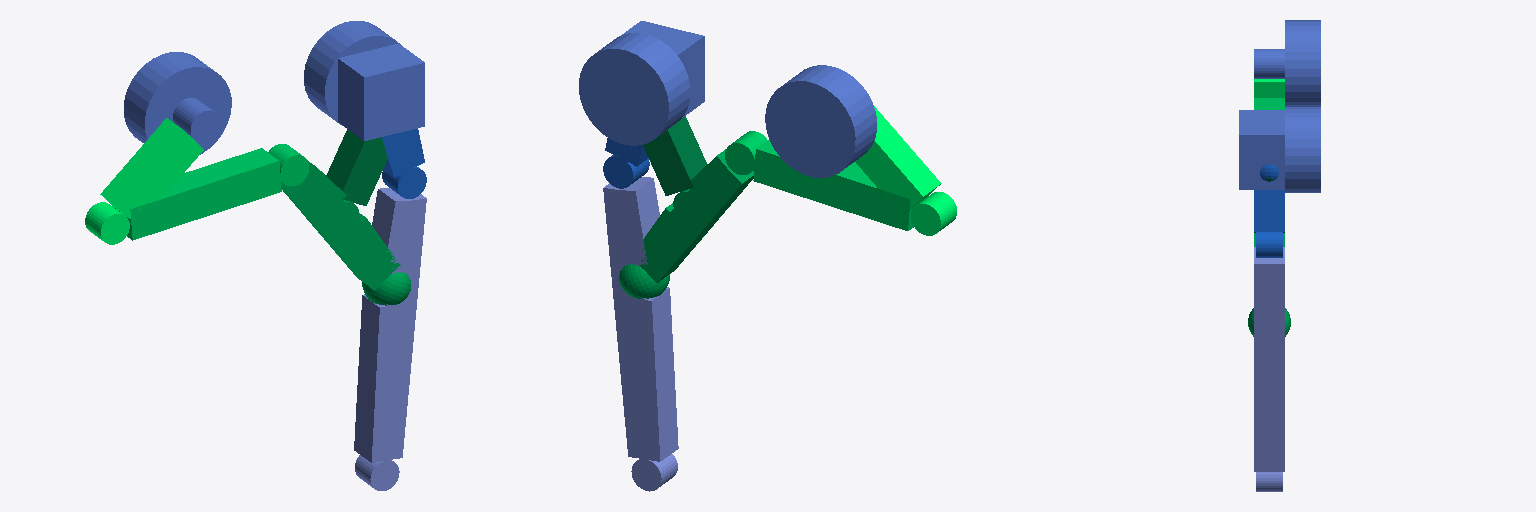
--- Render facts (derived) ---
The picture shows the robot from 3 angles, left to right: view 1: azimuth 30°, elevation 25°; view 2: azimuth 150°, elevation 25°; view 3: azimuth 270°, elevation 25°; orthographic projection.
Model Robot with 21 links and 20 joints (8 revolute, 12 fixed), rooted at G, posed all joints at 0.
Visible links, largest first — view 1: L4, G, L6, Ground_connection_GActuator, L5, L7, Main_ground_GActuator, L8, Ground_connection_GUnit, L3, branch_2_L7Unit, Main_ee_L4Unit (+3 smaller); view 2: L4, Main_ground_GActuator, Ground_connection_GActuator, L5, L6, L7, L8, G, branch_2_L7Unit, Main_ee_L4Unit, branch_1_L6Unit, Main_connection_2_L5Pseudo (+2 smaller); view 3: L4, G, Ground_connection_GActuator, Main_ground_GActuator, L3, Ground_connection_GUnit, Main_knee_L3Unit, L7, Main_ee_L4Unit.
Link boxes in pixels (x1,y1,x2,y2): L4: (354, 188, 426, 462); G: (338, 43, 424, 140); L6: (115, 148, 281, 240); Ground_connection_GActuator: (124, 52, 231, 154); L5: (281, 161, 400, 290); L7: (100, 118, 203, 218); Main_ground_GActuator: (304, 21, 400, 125); L8: (326, 129, 387, 205); Ground_connection_GUnit: (173, 98, 220, 142); L3: (382, 128, 424, 177); branch_2_L7Unit: (85, 202, 129, 244); Main_ee_L4Unit: (355, 455, 399, 490); L4: (603, 177, 678, 461); Main_ground_GActuator: (579, 33, 690, 145); Ground_connection_GActuator: (765, 65, 876, 177); L5: (637, 149, 753, 282); L6: (753, 140, 925, 230); L7: (855, 106, 941, 212); L8: (643, 116, 706, 195); G: (621, 21, 704, 117); branch_2_L7Unit: (911, 192, 956, 235); Main_ee_L4Unit: (631, 454, 677, 491); branch_1_L6Unit: (725, 131, 766, 174); Main_connection_2_L5Pseudo: (619, 264, 669, 298); L4: (1254, 247, 1284, 471); G: (1239, 110, 1284, 189); Ground_connection_GActuator: (1285, 20, 1320, 106); Main_ground_GActuator: (1285, 107, 1320, 192); L3: (1254, 190, 1284, 231); Ground_connection_GUnit: (1254, 49, 1284, 78); Main_knee_L3Unit: (1256, 232, 1282, 257); L7: (1254, 79, 1284, 97); Main_ee_L4Unit: (1256, 472, 1282, 491).
Bounding box of the posed robot: 0.36 × 0.0903 × 0.4772 m (x, y, z).
Geometry: primitives only (box / cylinder / sphere), no mesh files.

robot.urdf — Robot:
<?xml version="1.0"?>
<robot  name="Robot" >
 <link  name="L3" >
  <visual >
   <origin  rpy="0.0 0.09181105459193106 0.0"  xyz="-0.004108099428788401 0.0 0.05993599385656579" />
   <geometry >
    <box  size="0.03350000083446503 0.03350000083446503 0.05611614631658583" />
   </geometry>
   <material  name="L3_Material" >
    <color  rgba="0.1568627450980392 0.42745098039215684 0.8 1.0" />
   </material>
  </visual>
  <collision  name="L3_0_Collision" >
   <origin  rpy="0.0 0.09181105459193106 0.0"  xyz="-0.004108099428788401 0.0 0.05993599385656579" />
   <geometry >
    <box  size="0.03350000083446503 0.03350000083446503 0.05611614631658583" />
   </geometry>
  </collision>
  <collision  name="L3_0_Collision" >
   <origin  rpy="0.0 0.09181105459193106 0.0"  xyz="-0.004108099428788401 0.0 0.05993599385656579" />
   <geometry >
    <box  size="0.03350000083446503 0.03350000083446503 0.05611614631658583" />
   </geometry>
  </collision>
  <visual >
   <origin  rpy="3.141592653589793 0.49235980655335787 3.141592653589793"  xyz="-0.004108099428788413 0.0 0.00765831866618727" />
   <geometry >
    <box  size="0.03350000083446503 0.03350000083446503 0.01738117668165007" />
   </geometry>
   <material  name="L3_Material" >
    <color  rgba="0.1568627450980392 0.42745098039215684 0.8 1.0" />
   </material>
  </visual>
  <collision  name="L3_1_Collision" >
   <origin  rpy="3.141592653589793 0.49235980655335787 3.141592653589793"  xyz="-0.004108099428788413 0.0 0.00765831866618727" />
   <geometry >
    <box  size="0.03350000083446503 0.03350000083446503 0.01738117668165007" />
   </geometry>
  </collision>
  <collision  name="L3_1_Collision" >
   <origin  rpy="3.141592653589793 0.49235980655335787 3.141592653589793"  xyz="-0.004108099428788413 0.0 0.00765831866618727" />
   <geometry >
    <box  size="0.03350000083446503 0.03350000083446503 0.01738117668165007" />
   </geometry>
  </collision>
  <visual >
   <origin  rpy="0.0 0.0 0.0"  xyz="1.1860980540876177e-17 0.0 0.05227767519037852" />
   <geometry >
    <box  size="0.03350000083446503 0.03350000083446503 0.07105534954629202" />
   </geometry>
   <material  name="L3_Material" >
    <color  rgba="0.1568627450980392 0.42745098039215684 0.8 1.0" />
   </material>
  </visual>
  <collision  name="L3_2_Collision" >
   <origin  rpy="0.0 0.0 0.0"  xyz="1.1860980540876177e-17 0.0 0.05227767519037852" />
   <geometry >
    <box  size="0.03350000083446503 0.03350000083446503 0.07105534954629202" />
   </geometry>
  </collision>
  <collision  name="L3_2_Collision" >
   <origin  rpy="0.0 0.0 0.0"  xyz="1.1860980540876177e-17 0.0 0.05227767519037852" />
   <geometry >
    <box  size="0.03350000083446503 0.03350000083446503 0.07105534954629202" />
   </geometry>
  </collision>
  <inertial >
   <origin  rpy="0.0 0.0 0.0"  xyz="-0.00274 0.0 0.03996" />
   <mass  value="0.09685269889407332" />
   <inertia  iyz="-2.4161305388705388e-22"  izz="6.166570747812177e-05"  ixz="0.00018308466180655771"  ixy="2.695850918604945e-22"  ixx="0.0008365423144498885"  iyy="0.0008800925308032057" />
  </inertial>
 </link>
 <link  name="G" >
  <visual >
   <origin  rpy="0.0 0.0 0.0"  xyz="0.0 0.0 0.0" />
   <geometry >
    <box  size="0.067 0.067 0.067" />
   </geometry>
   <material  name="G_Material" >
    <color  rgba="0.37254901960784315 0.5019607843137255 0.8352941176470589 1.0" />
   </material>
  </visual>
  <collision  name="G_Collision" >
   <origin  rpy="0.0 0.0 0.0"  xyz="0.0 0.0 0.0" />
   <geometry >
    <box  size="0.067 0.067 0.067" />
   </geometry>
  </collision>
  <inertial >
   <origin  rpy="0.0 0.0 0.0"  xyz="0.0 0.0 0.0" />
   <mass  value="0.04903493747122909" />
   <inertia  iyz="0.0"  izz="3.66863057180579e-05"  ixz="0.0"  ixy="0.0"  ixx="3.66863057180579e-05"  iyy="3.66863057180579e-05" />
  </inertial>
 </link>
 <link  name="L4" >
  <visual >
   <origin  rpy="0.0 0.0 0.0"  xyz="-1.3877787807814457e-17 0.0 0.15066903897197254" />
   <geometry >
    <box  size="0.03350000083446503 0.03350000083446503 0.26783807710948004" />
   </geometry>
   <material  name="L4_Material" >
    <color  rgba="0.5176470588235295 0.5843137254901961 0.8705882352941177 1.0" />
   </material>
  </visual>
  <collision  name="L4_0_Collision" >
   <origin  rpy="0.0 0.0 0.0"  xyz="-1.3877787807814457e-17 0.0 0.15066903897197254" />
   <geometry >
    <box  size="0.03350000083446503 0.03350000083446503 0.26783807710948004" />
   </geometry>
  </collision>
  <collision  name="L4_0_Collision" >
   <origin  rpy="0.0 0.0 0.0"  xyz="-1.3877787807814457e-17 0.0 0.15066903897197254" />
   <geometry >
    <box  size="0.03350000083446503 0.03350000083446503 0.26783807710948004" />
   </geometry>
  </collision>
  <visual >
   <origin  rpy="3.141592653589793 0.04302627908889378 3.141592653589793"  xyz="0.0041903171318351945 0.0 0.20400846656394397" />
   <geometry >
    <box  size="0.03350000083446503 0.03350000083446503 0.16133954349930096" />
   </geometry>
   <material  name="L4_Material" >
    <color  rgba="0.5176470588235295 0.5843137254901961 0.8705882352941177 1.0" />
   </material>
  </visual>
  <collision  name="L4_1_Collision" >
   <origin  rpy="3.141592653589793 0.04302627908889378 3.141592653589793"  xyz="0.0041903171318351945 0.0 0.20400846656394397" />
   <geometry >
    <box  size="0.03350000083446503 0.03350000083446503 0.16133954349930096" />
   </geometry>
  </collision>
  <collision  name="L4_1_Collision" >
   <origin  rpy="3.141592653589793 0.04302627908889378 3.141592653589793"  xyz="0.0041903171318351945 0.0 0.20400846656394397" />
   <geometry >
    <box  size="0.03350000083446503 0.03350000083446503 0.16133954349930096" />
   </geometry>
  </collision>
  <visual >
   <origin  rpy="0.0 0.07839845297202364 0.0"  xyz="0.004190317131835208 0.0 0.05333942759197144" />
   <geometry >
    <box  size="0.03350000083446503 0.03350000083446503 0.07350753709636516" />
   </geometry>
   <material  name="L4_Material" >
    <color  rgba="0.5176470588235295 0.5843137254901961 0.8705882352941177 1.0" />
   </material>
  </visual>
  <collision  name="L4_2_Collision" >
   <origin  rpy="0.0 0.07839845297202364 0.0"  xyz="0.004190317131835208 0.0 0.05333942759197144" />
   <geometry >
    <box  size="0.03350000083446503 0.03350000083446503 0.07350753709636516" />
   </geometry>
  </collision>
  <collision  name="L4_2_Collision" >
   <origin  rpy="0.0 0.07839845297202364 0.0"  xyz="0.004190317131835208 0.0 0.05333942759197144" />
   <geometry >
    <box  size="0.03350000083446503 0.03350000083446503 0.07350753709636516" />
   </geometry>
  </collision>
  <inertial >
   <origin  rpy="0.0 0.0 0.0"  xyz="0.00279 0.0 0.13601" />
   <mass  value="0.27559273891349373" />
   <inertia  iyz="-1.787784584408132e-21"  izz="0.00010556823177187275"  ixz="0.000895771586742282"  ixy="6.490733712540504e-22"  ixx="0.04267591652550551"  iyy="0.04272993742950175" />
  </inertial>
 </link>
 <link  name="EE" >
  <visual >
   <origin  rpy="0.0 0.0 0.0"  xyz="0.0 0.0 0.0" />
   <geometry >
    <sphere  radius="0.002142857142857143" />
   </geometry>
   <material  name="EE_Material" >
    <color  rgba="0.6431372549019608 0.6666666666666666 0.9058823529411765 1.0" />
   </material>
  </visual>
  <collision  name="EE_Collision" >
   <origin  rpy="0.0 0.0 0.0"  xyz="0.0 0.0 0.0" />
   <geometry >
    <sphere  radius="0.002142857142857143" />
   </geometry>
  </collision>
  <inertial >
   <origin  rpy="0.0 0.0 0.0"  xyz="0.0 0.0 0.0" />
   <mass  value="2.982076683750377e-05" />
   <inertia  iyz="0.0"  izz="5.477283704847632e-11"  ixz="0.0"  ixy="0.0"  ixx="5.477283704847632e-11"  iyy="5.477283704847632e-11" />
  </inertial>
 </link>
 <link  name="L8" >
  <visual >
   <origin  rpy="0.0 0.0 0.0"  xyz="-0.0 0.0 0.06016" />
   <geometry >
    <box  size="0.0335 0.0335 0.08682350477047437" />
   </geometry>
   <material  name="L8_Material" >
    <color  rgba="0.01568627450980392 0.5058823529411764 0.29411764705882354 1.0" />
   </material>
  </visual>
  <collision  name="L8_Collision" >
   <origin  rpy="0.0 0.0 0.0"  xyz="-0.0 0.0 0.06016" />
   <geometry >
    <box  size="0.0335 0.0335 0.08682350477047437" />
   </geometry>
  </collision>
  <inertial >
   <origin  rpy="0.0 0.0 0.0"  xyz="-0.0 0.0 0.06016" />
   <mass  value="0.07049810895200362" />
   <inertia  iyz="0.0"  izz="1.3186083795231012e-05"  ixz="0.0"  ixy="0.0"  ixx="5.087948971490957e-05"  iyy="5.087948971490957e-05" />
  </inertial>
 </link>
 <link  name="L5" >
  <visual >
   <origin  rpy="0.0 0.15776220589854817 0.0"  xyz="0.008088247928544748 0.0 0.1336198697017476" />
   <geometry >
    <box  size="0.03350000083446503 0.03350000083446503 0.06946378375115986" />
   </geometry>
   <material  name="L5_Material" >
    <color  rgba="0.0 0.6627450980392157 0.3607843137254902 1.0" />
   </material>
  </visual>
  <collision  name="L5_0_Collision" >
   <origin  rpy="0.0 0.15776220589854817 0.0"  xyz="0.008088247928544748 0.0 0.1336198697017476" />
   <geometry >
    <box  size="0.03350000083446503 0.03350000083446503 0.06946378375115986" />
   </geometry>
  </collision>
  <collision  name="L5_0_Collision" >
   <origin  rpy="0.0 0.15776220589854817 0.0"  xyz="0.008088247928544748 0.0 0.1336198697017476" />
   <geometry >
    <box  size="0.03350000083446503 0.03350000083446503 0.06946378375115986" />
   </geometry>
  </collision>
  <visual >
   <origin  rpy="0.0 0.0 0.0"  xyz="-1.3877787807814457e-17 0.0 0.041388656954714" />
   <geometry >
    <box  size="0.03350000083446503 0.03350000083446503 0.04927731307496297" />
   </geometry>
   <material  name="L5_Material" >
    <color  rgba="0.0 0.6627450980392157 0.3607843137254902 1.0" />
   </material>
  </visual>
  <collision  name="L5_1_Collision" >
   <origin  rpy="0.0 0.0 0.0"  xyz="-1.3877787807814457e-17 0.0 0.041388656954714" />
   <geometry >
    <box  size="0.03350000083446503 0.03350000083446503 0.04927731307496297" />
   </geometry>
  </collision>
  <collision  name="L5_1_Collision" >
   <origin  rpy="0.0 0.0 0.0"  xyz="-1.3877787807814457e-17 0.0 0.041388656954714" />
   <geometry >
    <box  size="0.03350000083446503 0.03350000083446503 0.04927731307496297" />
   </geometry>
  </collision>
  <visual >
   <origin  rpy="-3.141592653589793 -0.08747156941082657 3.141592653589793"  xyz="0.008088247928544762 0.0 0.09223121274703361" />
   <geometry >
    <box  size="0.03350000083446503 0.03350000083446503 0.1516703678462954" />
   </geometry>
   <material  name="L5_Material" >
    <color  rgba="0.0 0.6627450980392157 0.3607843137254902 1.0" />
   </material>
  </visual>
  <collision  name="L5_2_Collision" >
   <origin  rpy="-3.141592653589793 -0.08747156941082657 3.141592653589793"  xyz="0.008088247928544762 0.0 0.09223121274703361" />
   <geometry >
    <box  size="0.03350000083446503 0.03350000083446503 0.1516703678462954" />
   </geometry>
  </collision>
  <collision  name="L5_2_Collision" >
   <origin  rpy="-3.141592653589793 -0.08747156941082657 3.141592653589793"  xyz="0.008088247928544762 0.0 0.09223121274703361" />
   <geometry >
    <box  size="0.03350000083446503 0.03350000083446503 0.1516703678462954" />
   </geometry>
  </collision>
  <inertial >
   <origin  rpy="0.0 0.0 0.0"  xyz="0.00539 0.0 0.08908" />
   <mass  value="0.16698601834510818" />
   <inertia  iyz="5.82800099357015e-21"  izz="0.0005750110691996042"  ixz="-0.001546053058079428"  ixy="-7.644705710738078e-21"  ixx="0.008306275939171324"  iyy="0.008850053663633619" />
  </inertial>
 </link>
 <link  name="L6" >
  <visual >
   <origin  rpy="0.0 0.0 0.0"  xyz="0.0 0.0 0.09894" />
   <geometry >
    <box  size="0.0335 0.0335 0.16437820472978457" />
   </geometry>
   <material  name="L6_Material" >
    <color  rgba="0.0 0.8274509803921568 0.4196078431372549 1.0" />
   </material>
  </visual>
  <collision  name="L6_Collision" >
   <origin  rpy="0.0 0.0 0.0"  xyz="0.0 0.0 0.09894" />
   <geometry >
    <box  size="0.0335 0.0335 0.16437820472978457" />
   </geometry>
  </collision>
  <inertial >
   <origin  rpy="0.0 0.0 0.0"  xyz="0.0 0.0 0.09894" />
   <mass  value="0.1334702234954687" />
   <inertia  iyz="0.0"  izz="2.496449305296496e-05"  ixz="0.0"  ixy="0.0"  ixx="0.00031301485964775074"  iyy="0.00031301485964775074" />
  </inertial>
 </link>
 <link  name="L7" >
  <visual >
   <origin  rpy="0.0 0.0 0.0"  xyz="0.0 0.0 0.06513" />
   <geometry >
    <box  size="0.0335 0.0335 0.09676022409008955" />
   </geometry>
   <material  name="L7_Material" >
    <color  rgba="0.0 1.0 0.4666666666666667 1.0" />
   </material>
  </visual>
  <collision  name="L7_Collision" >
   <origin  rpy="0.0 0.0 0.0"  xyz="0.0 0.0 0.06513" />
   <geometry >
    <box  size="0.0335 0.0335 0.09676022409008955" />
   </geometry>
  </collision>
  <inertial >
   <origin  rpy="0.0 0.0 0.0"  xyz="0.0 0.0 0.06513" />
   <mass  value="0.07856643011770174" />
   <inertia  iyz="0.0"  izz="1.4695196033265132e-05"  ixz="0.0"  ixy="0.0"  ixx="6.864604972717903e-05"  iyy="6.864604972717903e-05" />
  </inertial>
 </link>
 <joint  name="Main_ground"  type="revolute" >
  <parent  link="G" />
  <child  link="L3" />
  <origin  rpy="3.141592653589793 0.2910198718830985 3.141592653589793"  xyz="0.0 0.0 0.0" />
  <axis  xyz="0 1 0" />
  <limit  velocity="23.99988291783386"  effort="10.2"  lower="-3.141592653589793"  upper="3.141592653589793" />
  <dynamics  friction="0"  damping="0.05" />
 </joint>
 <joint  name="Main_ground_G_WeldActuator"  type="fixed" >
  <parent  link="G" />
  <child  link="Main_ground_GActuator" />
  <origin  rpy="-1.5707963267948972 0.29101987188309875 -3.141592653589793"  xyz="0.0 0.03675000041723252 0.0" />
 </joint>
 <link  name="Main_ground_GActuator" >
  <visual >
   <geometry >
    <cylinder  length="0.04"  radius="0.048" />
   </geometry>
   <material  name="Main_ground_GActuator_Material" >
    <color  rgba="0.37254901960784315 0.5019607843137255 0.8352941176470589 0.9" />
   </material>
  </visual>
  <inertial >
   <inertia  iyz="0.0"  izz="0.01056"  ixz="0.0"  ixy="0.0"  ixx="0.0067466666666666664"  iyy="0.0067466666666666664" />
   <mass  value="0.44" />
  </inertial>
 </link>
 <link  name="Main_ground_GUnit" >
  <visual >
   <geometry >
    <cylinder  length="0.03350000083446503"  radius="0.016750000417232513" />
   </geometry>
   <material  name="Main_ground_GUnit_Material" >
    <color  rgba="0.37254901960784315 0.5019607843137255 0.8352941176470589 0.9" />
   </material>
  </visual>
  <inertial >
   <inertia  iyz="0.0"  izz="0.0008375000208616257"  ixz="0.0"  ixy="0.0"  ixx="0.0006979166840513548"  iyy="0.0006979166840513548" />
   <mass  value="0.1" />
  </inertial>
 </link>
 <joint  name="Main_ground_G_WeldUnit"  type="fixed" >
  <parent  link="G" />
  <child  link="Main_ground_GUnit" />
  <origin  rpy="-1.5707963267948972 0.29101987188309875 -3.141592653589793"  xyz="0.0 0.0 0.0" />
 </joint>
 <joint  name="Main_knee"  type="revolute" >
  <parent  link="L3" />
  <child  link="L4" />
  <origin  rpy="0.0 0.39074102059579907 0.0"  xyz="2.3721961081752355e-17 0.0 0.10455535038075704" />
  <axis  xyz="0 1 0" />
  <limit  velocity="6.283185307179586"  effort="600.0"  lower="-3.141592653589793"  upper="3.141592653589793" />
  <dynamics  friction="0"  damping="0.05" />
 </joint>
 <link  name="Main_knee_L3Unit" >
  <visual >
   <geometry >
    <cylinder  length="0.03"  radius="0.016" />
   </geometry>
   <material  name="Main_knee_L3Unit_Material" >
    <color  rgba="0.1568627450980392 0.42745098039215684 0.8 0.9" />
   </material>
  </visual>
  <inertial >
   <inertia  iyz="0.0"  izz="0.0008"  ixz="0.0"  ixy="0.0"  ixx="0.00065"  iyy="0.00065" />
   <mass  value="0.1" />
  </inertial>
 </link>
 <joint  name="Main_knee_L3_WeldUnit"  type="fixed" >
  <parent  link="L3" />
  <child  link="Main_knee_L3Unit" />
  <origin  rpy="1.5707963267948966 0.39074102059579907 -1.1102230246251565e-16"  xyz="2.3721961081752355e-17 0.0 0.10455535038075704" />
 </joint>
 <joint  name="Main_ee"  type="fixed" >
  <parent  link="L4" />
  <child  link="EE" />
  <origin  rpy="3.141592653589793 0.0997211487127001 3.141592653589793"  xyz="-2.7755575615628914e-17 0.0 0.30133807794394507" />
 </joint>
 <link  name="Main_ee_L4Unit" >
  <visual >
   <geometry >
    <cylinder  length="0.03"  radius="0.016" />
   </geometry>
   <material  name="Main_ee_L4Unit_Material" >
    <color  rgba="0.5176470588235295 0.5843137254901961 0.8705882352941177 0.9" />
   </material>
  </visual>
  <inertial >
   <inertia  iyz="0.0"  izz="0.0008"  ixz="0.0"  ixy="0.0"  ixx="0.00065"  iyy="0.00065" />
   <mass  value="0.1" />
  </inertial>
 </link>
 <joint  name="Main_ee_L4_WeldUnit"  type="fixed" >
  <parent  link="L4" />
  <child  link="Main_ee_L4Unit" />
  <origin  rpy="-1.570796326794897 0.09972114871270032 3.1415926535897927"  xyz="-2.7755575615628914e-17 0.0 0.30133807794394507" />
 </joint>
 <link  name="Main_connection_1_L3Pseudo" >
  <visual >
   <geometry >
    <sphere  radius="0.02392857202461788" />
   </geometry>
   <material  name="Main_connection_1_L3Pseudo_Material" >
    <color  rgba="0.1568627450980392 0.42745098039215684 0.8 0.5" />
   </material>
  </visual>
  <inertial >
   <mass  value="0.05" />
   <inertia  iyz="0.0"  izz="1.145153118274651e-05"  ixz="0.0"  ixy="0.0"  ixx="1.145153118274651e-05"  iyy="1.145153118274651e-05" />
  </inertial>
 </link>
 <joint  name="Main_connection_1_L3_revolute"  type="revolute" >
  <parent  link="L3" />
  <child  link="Main_connection_1_L3Pseudo" />
  <origin  rpy="0.0 0.0 0.0"  xyz="-0.008216198857576826 0.0 0.01531663733237454" />
  <axis  xyz="0 1 0" />
  <limit  velocity="6.283185307179586"  effort="600.0"  lower="-3.141592653589793"  upper="3.141592653589793" />
  <dynamics  friction="0"  damping="0.05" />
 </joint>
 <joint  name="Main_connection_1_L3_Weld"  type="fixed" >
  <parent  link="L8" />
  <child  link="Main_connection_1_L8Pseudo" />
  <origin  rpy="3.141592653589793 0.7793676453643523 3.141592653589793"  xyz="-3.8163916471489756e-17 0.0 0.12032350477047436" />
 </joint>
 <link  name="Main_connection_1_L8Pseudo" >
  <visual >
   <geometry >
    <sphere  radius="0.02392857142857143" />
   </geometry>
   <material  name="Main_connection_1_L8Pseudo_Material" >
    <color  rgba="0.01568627450980392 0.5058823529411764 0.29411764705882354 0.5" />
   </material>
  </visual>
  <inertial >
   <mass  value="0.05" />
   <inertia  iyz="0.0"  izz="1.1451530612244902e-05"  ixz="0.0"  ixy="0.0"  ixx="1.1451530612244902e-05"  iyy="1.1451530612244902e-05" />
  </inertial>
 </link>
 <joint  name="branch_0"  type="revolute" >
  <parent  link="L5" />
  <child  link="L8" />
  <origin  rpy="3.141592653589793 -1.2122419352302822 3.141592653589793"  xyz="-2.7755575615628914e-17 0.0 0.082777313909428" />
  <axis  xyz="0 1 0" />
  <limit  velocity="6.283185307179586"  effort="600.0"  lower="-3.141592653589793"  upper="3.141592653589793" />
  <dynamics  friction="0"  damping="0.05" />
 </joint>
 <link  name="branch_0_L5Unit" >
  <visual >
   <geometry >
    <cylinder  length="0.03"  radius="0.016" />
   </geometry>
   <material  name="branch_0_L5Unit_Material" >
    <color  rgba="0.0 0.6627450980392157 0.3607843137254902 0.9" />
   </material>
  </visual>
  <inertial >
   <inertia  iyz="0.0"  izz="0.0008"  ixz="0.0"  ixy="0.0"  ixx="0.00065"  iyy="0.00065" />
   <mass  value="0.1" />
  </inertial>
 </link>
 <joint  name="branch_0_L5_WeldUnit"  type="fixed" >
  <parent  link="L5" />
  <child  link="branch_0_L5Unit" />
  <origin  rpy="-1.570796326794896 -1.2122419352302822 3.1415926535897922"  xyz="-2.7755575615628914e-17 0.0 0.082777313909428" />
 </joint>
 <link  name="Main_connection_2_L5Pseudo" >
  <visual >
   <geometry >
    <sphere  radius="0.02392857202461788" />
   </geometry>
   <material  name="Main_connection_2_L5Pseudo_Material" >
    <color  rgba="0.0 0.6627450980392157 0.3607843137254902 0.5" />
   </material>
  </visual>
  <inertial >
   <mass  value="0.05" />
   <inertia  iyz="0.0"  izz="1.145153118274651e-05"  ixz="0.0"  ixy="0.0"  ixx="1.145153118274651e-05"  iyy="1.145153118274651e-05" />
  </inertial>
 </link>
 <joint  name="Main_connection_2_L5_revolute"  type="revolute" >
  <parent  link="L5" />
  <child  link="Main_connection_2_L5Pseudo" />
  <origin  rpy="3.141592653589793 -1.2122419352302822 3.141592653589793"  xyz="0.016176495857089523 0.0 0.18446242549406722" />
  <axis  xyz="0 1 0" />
  <limit  velocity="6.283185307179586"  effort="600.0"  lower="-3.141592653589793"  upper="3.141592653589793" />
  <dynamics  friction="0"  damping="0.05" />
 </joint>
 <joint  name="Main_connection_2_L5_Weld"  type="fixed" >
  <parent  link="L4" />
  <child  link="Main_connection_2_L4Pseudo" />
  <origin  rpy="3.141592653589793 -0.3886266247685537 3.141592653589793"  xyz="0.008380634263670333 0.0 0.10667885518394299" />
 </joint>
 <link  name="Main_connection_2_L4Pseudo" >
  <visual >
   <geometry >
    <sphere  radius="0.02392857202461788" />
   </geometry>
   <material  name="Main_connection_2_L4Pseudo_Material" >
    <color  rgba="0.5176470588235295 0.5843137254901961 0.8705882352941177 0.5" />
   </material>
  </visual>
  <inertial >
   <mass  value="0.05" />
   <inertia  iyz="0.0"  izz="1.145153118274651e-05"  ixz="0.0"  ixy="0.0"  ixx="1.145153118274651e-05"  iyy="1.145153118274651e-05" />
  </inertial>
 </link>
 <joint  name="branch_1"  type="revolute" >
  <parent  link="L6" />
  <child  link="L5" />
  <origin  rpy="0.0 0.9252881250839118 0.0"  xyz="2.7755575615628914e-17 0.0 0.1978782047297846" />
  <axis  xyz="0 1 0" />
  <limit  velocity="6.283185307179586"  effort="600.0"  lower="-3.141592653589793"  upper="3.141592653589793" />
  <dynamics  friction="0"  damping="0.05" />
 </joint>
 <link  name="branch_1_L6Unit" >
  <visual >
   <geometry >
    <cylinder  length="0.03"  radius="0.016" />
   </geometry>
   <material  name="branch_1_L6Unit_Material" >
    <color  rgba="0.0 0.8274509803921568 0.4196078431372549 0.9" />
   </material>
  </visual>
  <inertial >
   <inertia  iyz="0.0"  izz="0.0008"  ixz="0.0"  ixy="0.0"  ixx="0.00065"  iyy="0.00065" />
   <mass  value="0.1" />
  </inertial>
 </link>
 <joint  name="branch_1_L6_WeldUnit"  type="fixed" >
  <parent  link="L6" />
  <child  link="branch_1_L6Unit" />
  <origin  rpy="1.5707963267948966 0.9252881250839118 1.1102230246251565e-16"  xyz="2.7755575615628914e-17 0.0 0.1978782047297846" />
 </joint>
 <joint  name="Ground_connection"  type="revolute" >
  <parent  link="G" />
  <child  link="L7" />
  <origin  rpy="3.141592653589793 -0.8557299655225146 3.141592653589793"  xyz="-0.1979280269259157 0.0 0.013357911869671868" />
  <axis  xyz="0 1 0" />
  <limit  velocity="23.99988291783386"  effort="10.2"  lower="-3.141592653589793"  upper="3.141592653589793" />
  <dynamics  friction="0"  damping="0.05" />
 </joint>
 <joint  name="Ground_connection_G_WeldActuator"  type="fixed" >
  <parent  link="G" />
  <child  link="Ground_connection_GActuator" />
  <origin  rpy="-1.5707963267948963 -0.8557299655225148 -3.141592653589793"  xyz="-0.1979280269259157 0.036750000000000005 0.013357911869671868" />
 </joint>
 <link  name="Ground_connection_GActuator" >
  <visual >
   <geometry >
    <cylinder  length="0.04"  radius="0.048" />
   </geometry>
   <material  name="Ground_connection_GActuator_Material" >
    <color  rgba="0.37254901960784315 0.5019607843137255 0.8352941176470589 0.9" />
   </material>
  </visual>
  <inertial >
   <inertia  iyz="0.0"  izz="0.01056"  ixz="0.0"  ixy="0.0"  ixx="0.0067466666666666664"  iyy="0.0067466666666666664" />
   <mass  value="0.44" />
  </inertial>
 </link>
 <link  name="Ground_connection_GUnit" >
  <visual >
   <geometry >
    <cylinder  length="0.0335"  radius="0.01675" />
   </geometry>
   <material  name="Ground_connection_GUnit_Material" >
    <color  rgba="0.37254901960784315 0.5019607843137255 0.8352941176470589 0.9" />
   </material>
  </visual>
  <inertial >
   <inertia  iyz="0.0"  izz="0.0008375000000000001"  ixz="0.0"  ixy="0.0"  ixx="0.0006979166666666668"  iyy="0.0006979166666666668" />
   <mass  value="0.1" />
  </inertial>
 </link>
 <joint  name="Ground_connection_G_WeldUnit"  type="fixed" >
  <parent  link="G" />
  <child  link="Ground_connection_GUnit" />
  <origin  rpy="-1.5707963267948963 -0.8557299655225148 -3.141592653589793"  xyz="-0.1979280269259157 0.0 0.013357911869671868" />
 </joint>
 <joint  name="branch_2"  type="revolute" >
  <parent  link="L7" />
  <child  link="L6" />
  <origin  rpy="3.141592653589793 -0.6366804012343384 3.141592653589793"  xyz="2.7755575615628914e-17 0.0 0.13026022409008958" />
  <axis  xyz="0 1 0" />
  <limit  velocity="6.283185307179586"  effort="600.0"  lower="-3.141592653589793"  upper="3.141592653589793" />
  <dynamics  friction="0"  damping="0.05" />
 </joint>
 <link  name="branch_2_L7Unit" >
  <visual >
   <geometry >
    <cylinder  length="0.03"  radius="0.016" />
   </geometry>
   <material  name="branch_2_L7Unit_Material" >
    <color  rgba="0.0 1.0 0.4666666666666667 0.9" />
   </material>
  </visual>
  <inertial >
   <inertia  iyz="0.0"  izz="0.0008"  ixz="0.0"  ixy="0.0"  ixx="0.00065"  iyy="0.00065" />
   <mass  value="0.1" />
  </inertial>
 </link>
 <joint  name="branch_2_L7_WeldUnit"  type="fixed" >
  <parent  link="L7" />
  <child  link="branch_2_L7Unit" />
  <origin  rpy="-1.5707963267948966 -0.6366804012343384 -3.141592653589793"  xyz="2.7755575615628914e-17 0.0 0.13026022409008958" />
 </joint>
</robot>
